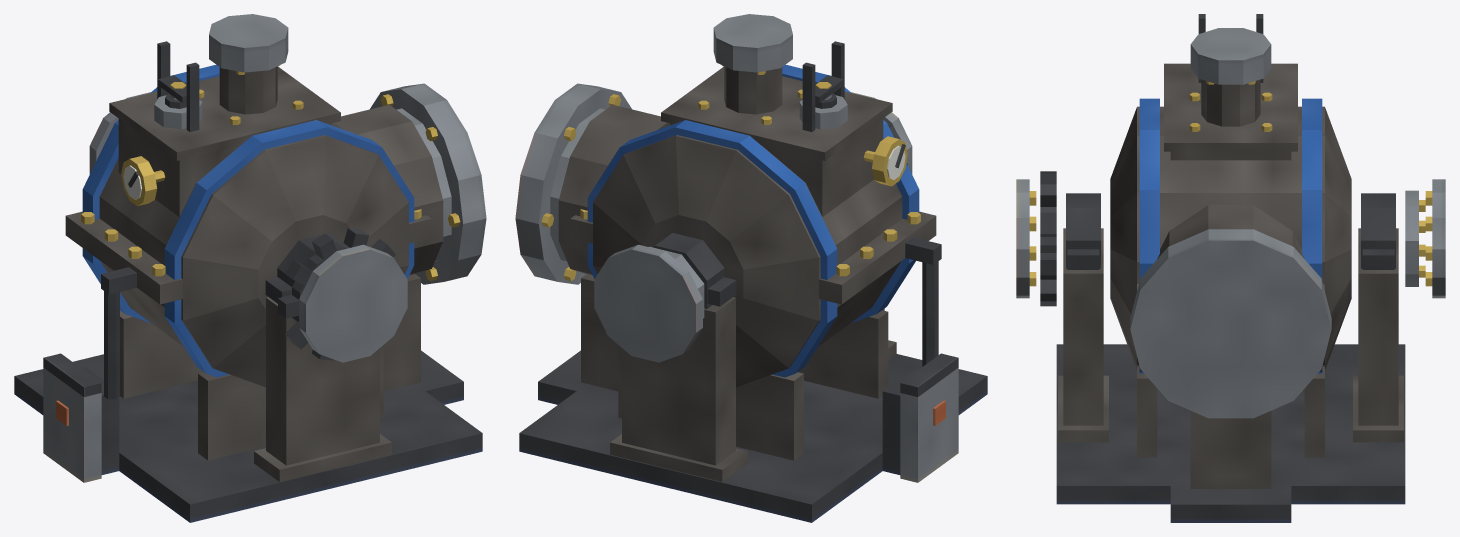
The model's file is shaftsteamhp.obj.
The picture shows the model from 3 angles, left to right: view 1: azimuth 30°, elevation 25°; view 2: azimuth 150°, elevation 25°; view 3: azimuth 270°, elevation 25°; orthographic projection.
Parts seen in each view (by area): view 1: main, rotor; view 2: main, rotor; view 3: main, rotor.
Boxes of the visible parts, x1=… form: main: x1=14, y1=14, x2=486, y2=522; rotor: x1=89, y1=92, x2=407, y2=362; main: x1=515, y1=14, x2=987, y2=522; rotor: x1=594, y1=92, x2=912, y2=362; main: x1=1056, y1=14, x2=1405, y2=522; rotor: x1=1016, y1=171, x2=1445, y2=306.
Size of the model in its own units: 1 by 1 by 1.
1 material, 1 textured.
